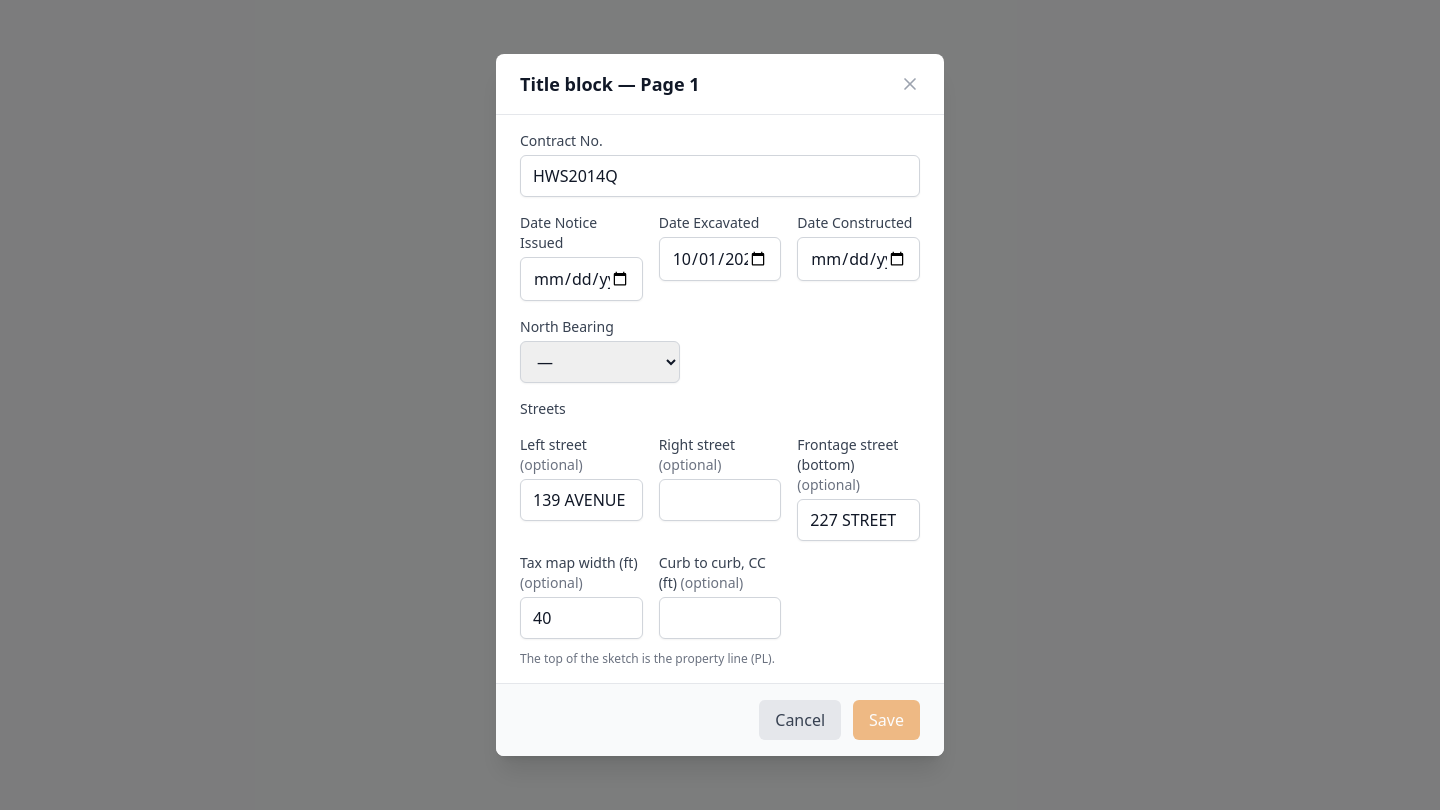
TitleBlockEditor › shows a refusal under Save and stays open
Type "2026-10-05" into the date field labelled "Date Constructed" at {"x": 859, "y": 259}, box [797,237,920,281]
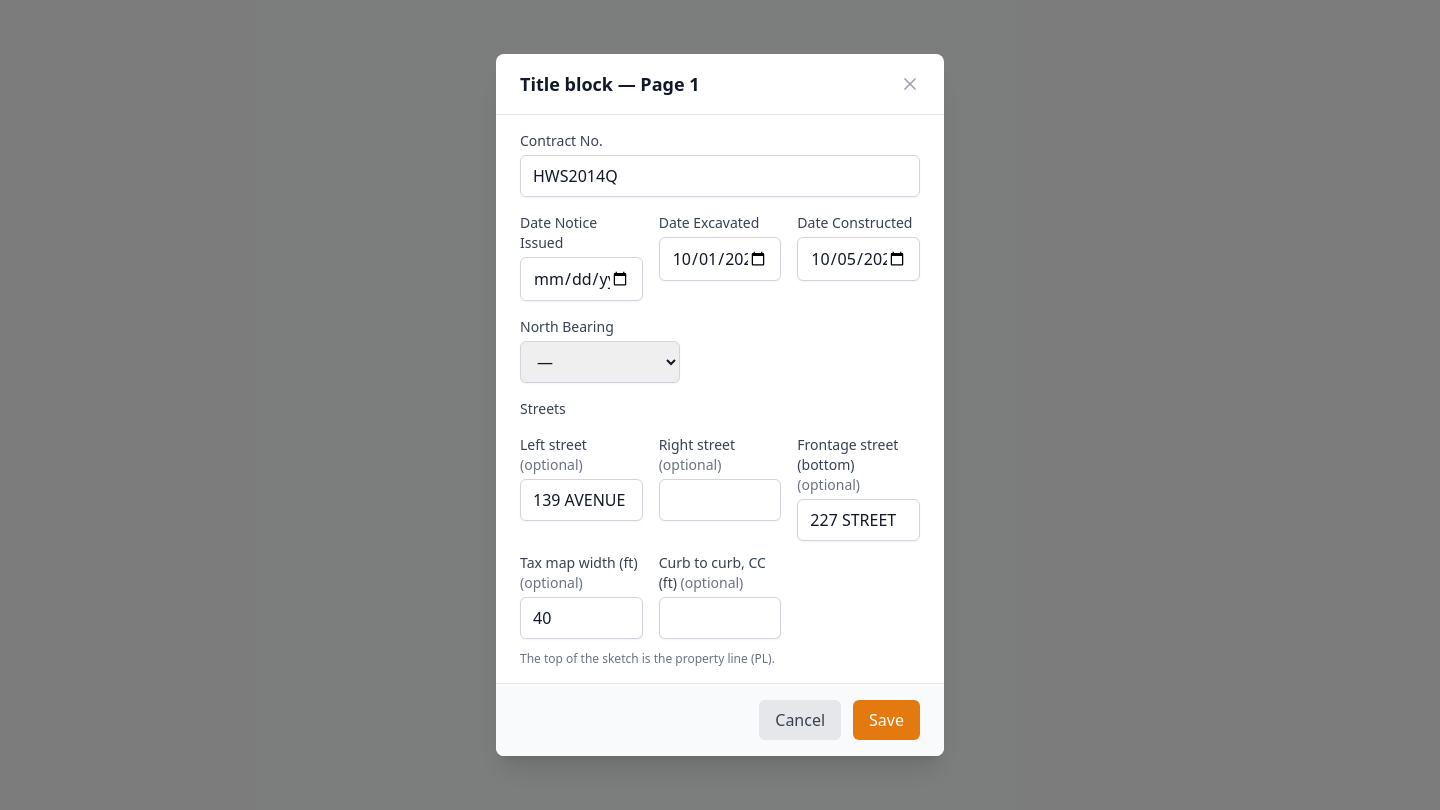
Click the button "Save" at {"x": 887, "y": 720}, box [853,700,920,740]
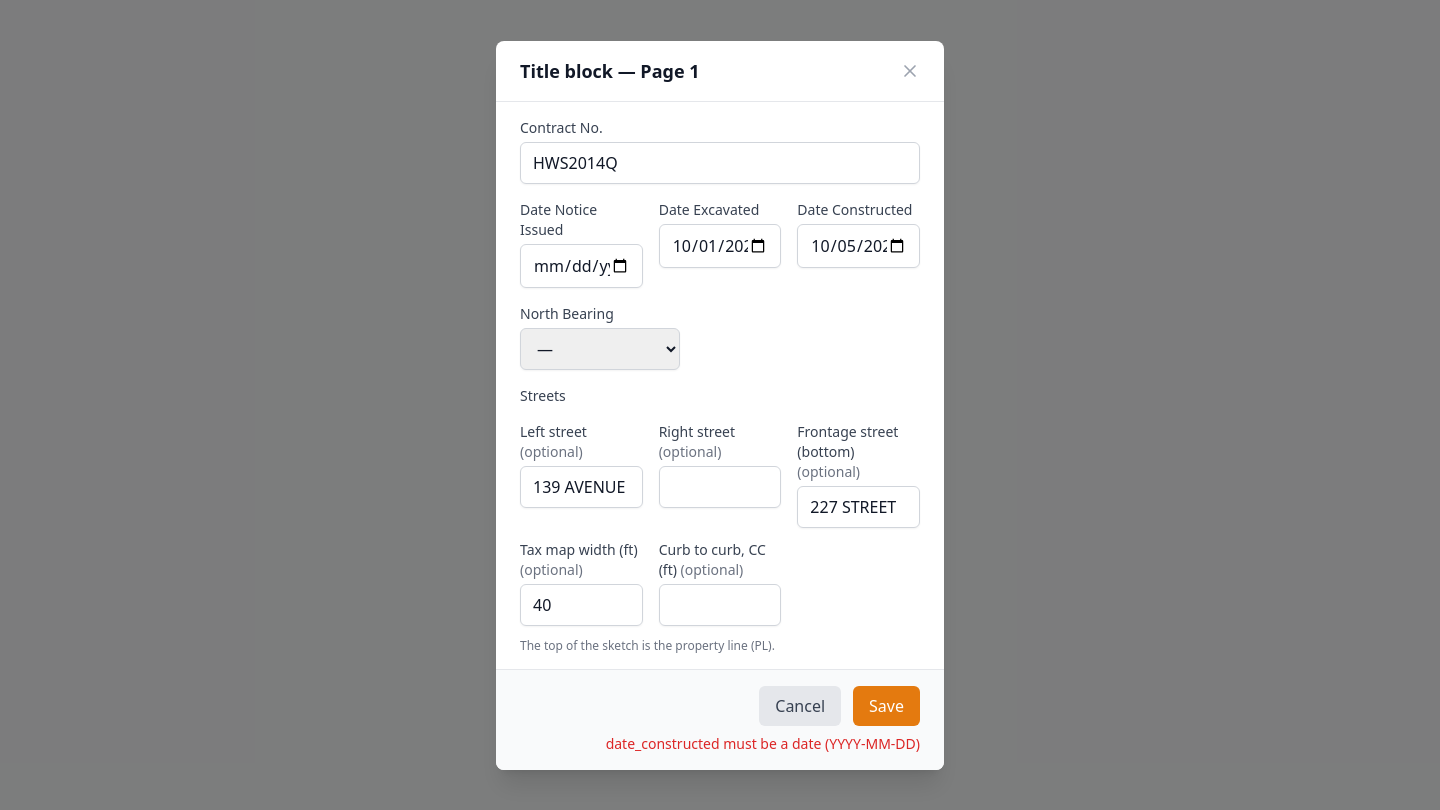
Expected: the button "Save" is enabled, [853,686,920,726]
Expected: the message reads "date_constructed must be a date (YYYY-MM-DD)", [606,734,920,752]
